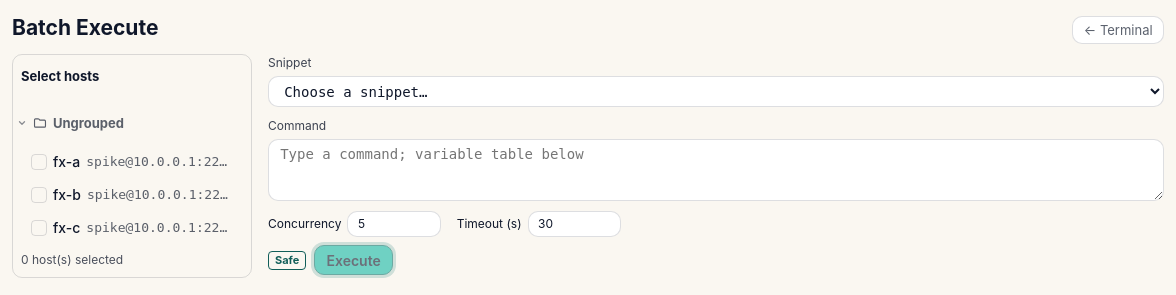
Test: BatchPanel › 无主机/无命令时执行禁用
This screenshot has width=1176, height=295.
Expected: the button with test id "batch-execute" is disabled, [314,245,393,275]
Click the checkbox labelled "fx-a spike@10.0.0.1:2222" at (132, 162), box [21,146,243,177]
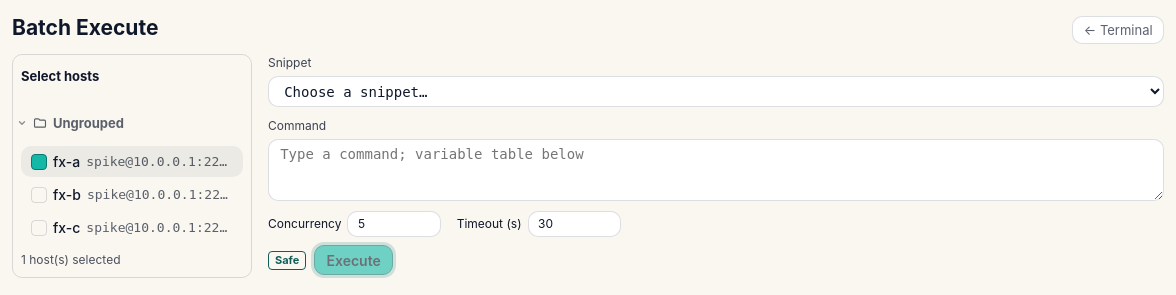
Expected: the button with test id "batch-execute" is disabled, [314,245,393,275]
Type "whoami" into the text box with test id "batch-body" at (716, 170), box [268,139,1164,201]
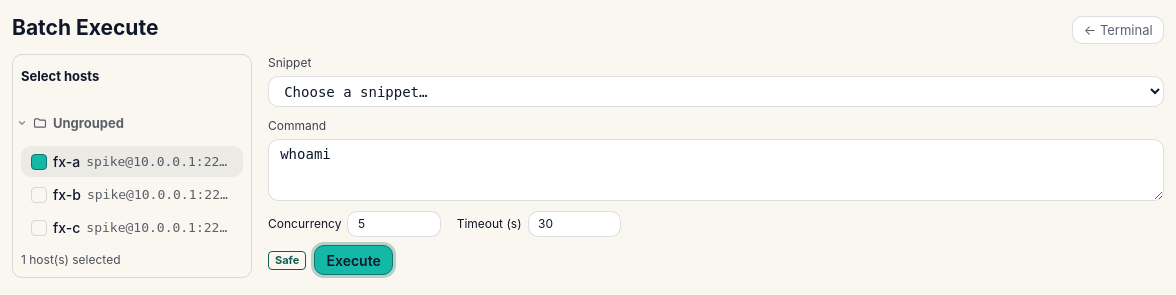
Expected: the button with test id "batch-execute" is enabled, [314,245,393,275]
